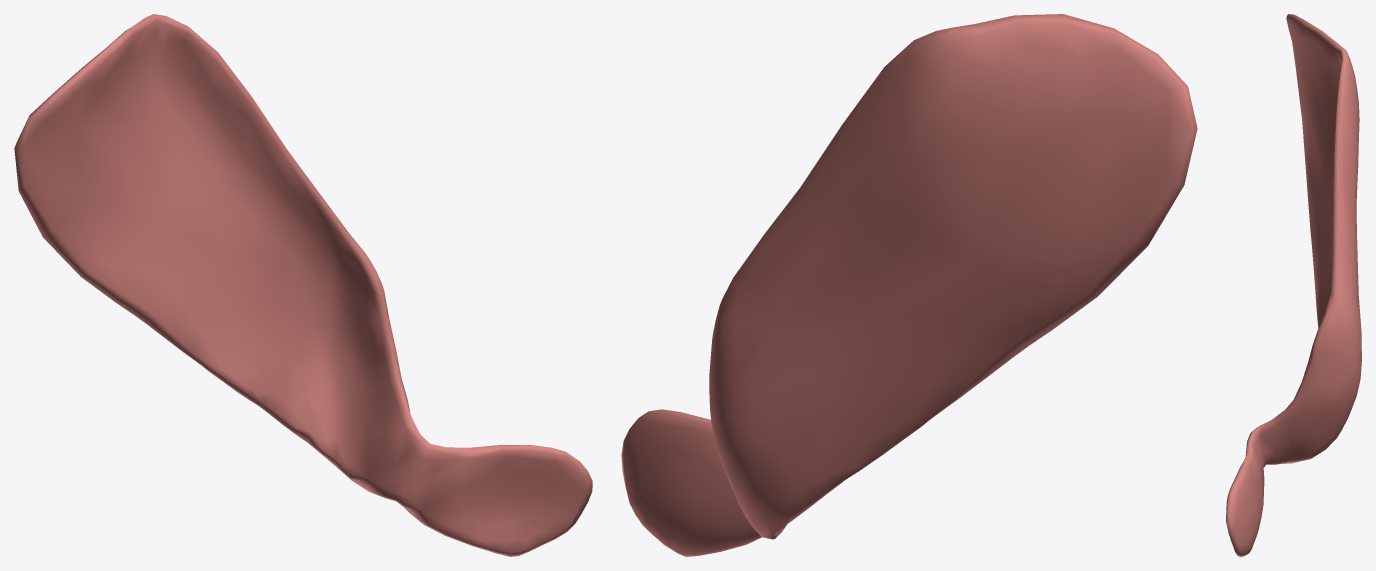
3 views of the same model, side by side, from view 1: azimuth 30°, elevation 25°; view 2: azimuth 150°, elevation 25°; view 3: azimuth 270°, elevation 25° (orthographic). The views are drawn at different scales.
Visible parts, largest first — view 1: ZA_a83ad715c03b1390; view 2: ZA_a83ad715c03b1390; view 3: ZA_a83ad715c03b1390.
Part boxes in pixels (box(x1,y1,x2,y2)): ZA_a83ad715c03b1390: box(14, 14, 592, 556); ZA_a83ad715c03b1390: box(621, 14, 1197, 556); ZA_a83ad715c03b1390: box(1226, 14, 1361, 556).
Bounding box in the file's own units: 0.0227 × 0.0234 × 0.00706.
